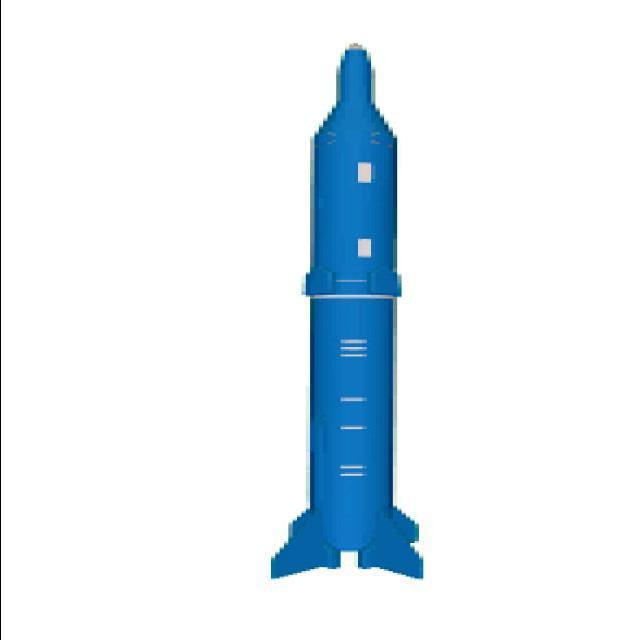Missile: (238, 34, 440, 590)
